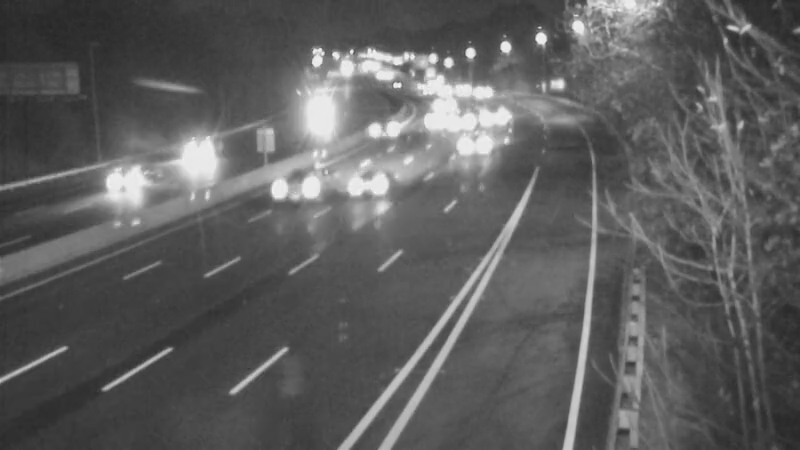vehicle: (331, 145, 411, 225), (259, 148, 339, 228), (101, 144, 181, 224), (419, 73, 469, 123), (471, 83, 521, 133), (408, 93, 458, 143), (437, 92, 487, 142), (360, 102, 410, 152), (450, 120, 500, 170), (178, 124, 228, 174), (283, 93, 333, 143)
